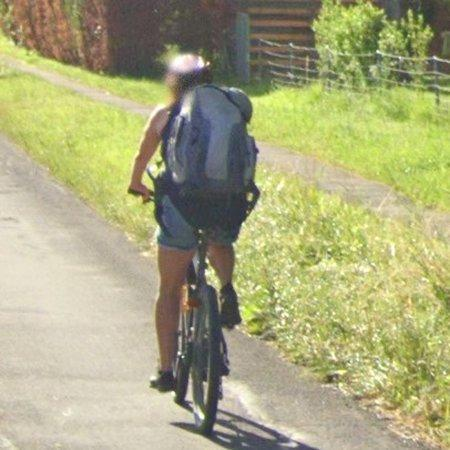bicycles: (175, 230, 224, 436)
